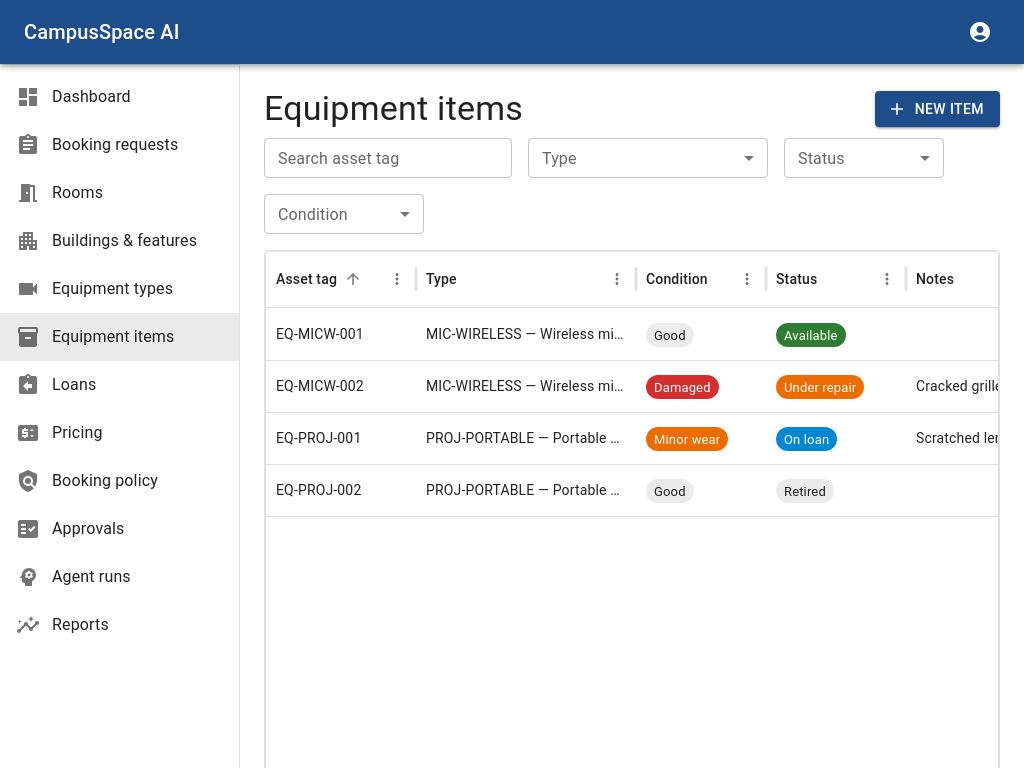
Test: EquipmentItemFormDialog › shows a duplicate asset tag under the tag field
This screenshot has width=1024, height=768.
Click the button "New item" at (937, 109), box [875,91,1000,127]
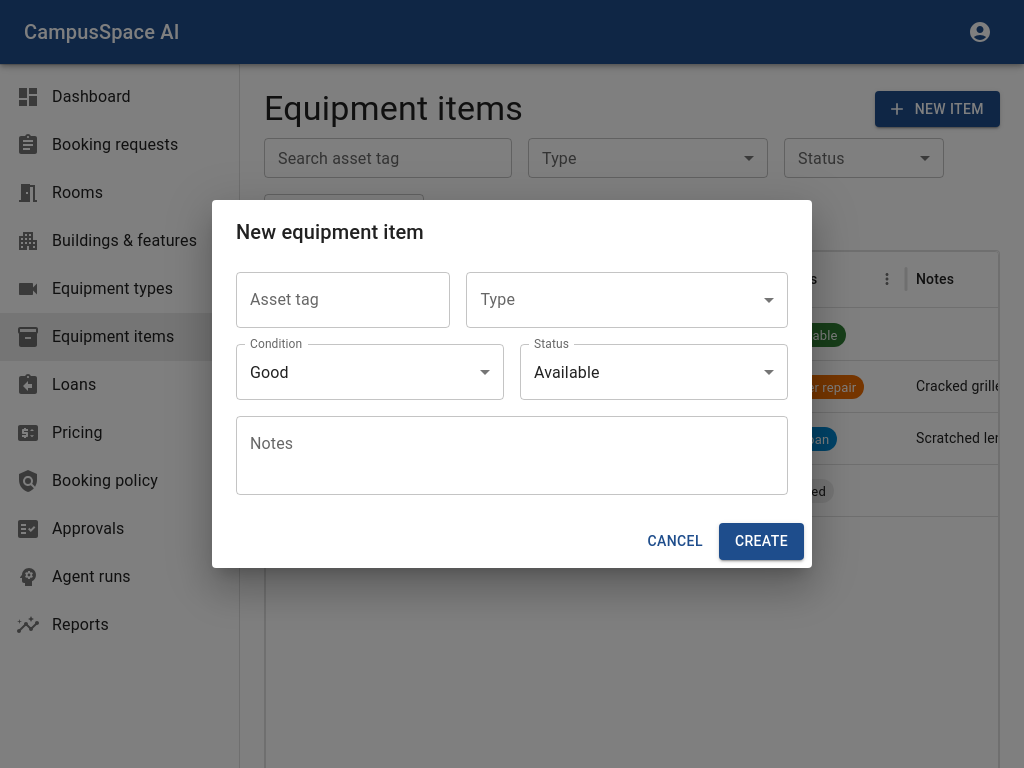
Type "EQ-MICW-001" into the field labelled "Asset tag" at (343, 300), box [236,272,450,328]
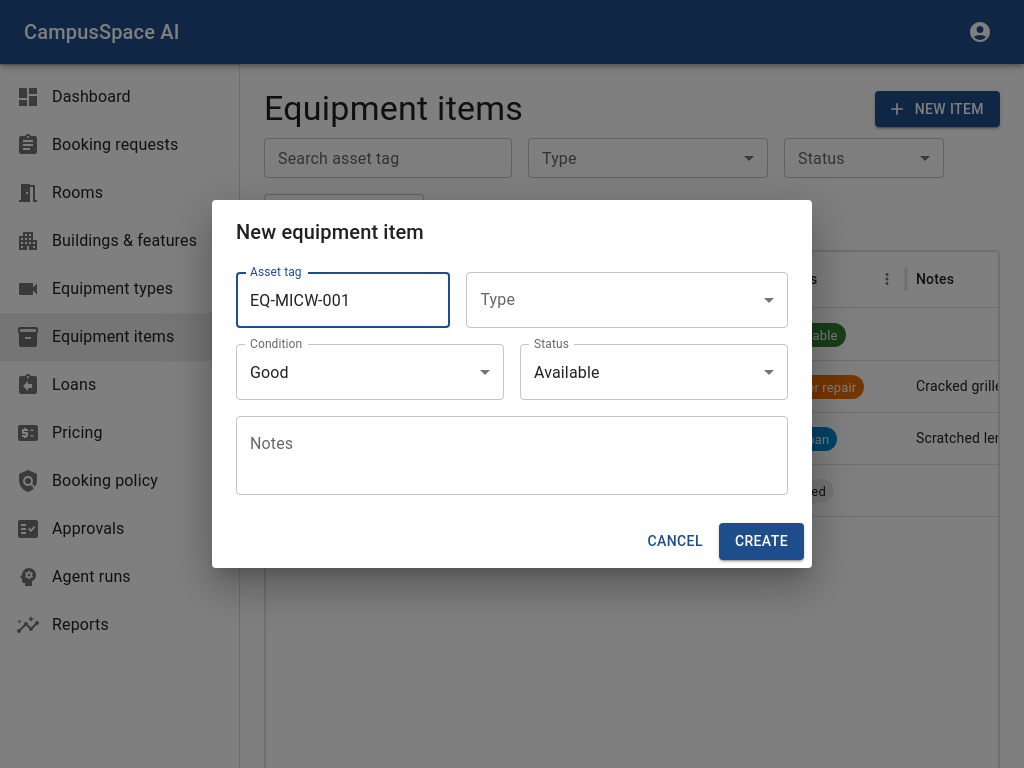
Click the dropdown named "Type" at (627, 300), box [466,272,788,328]
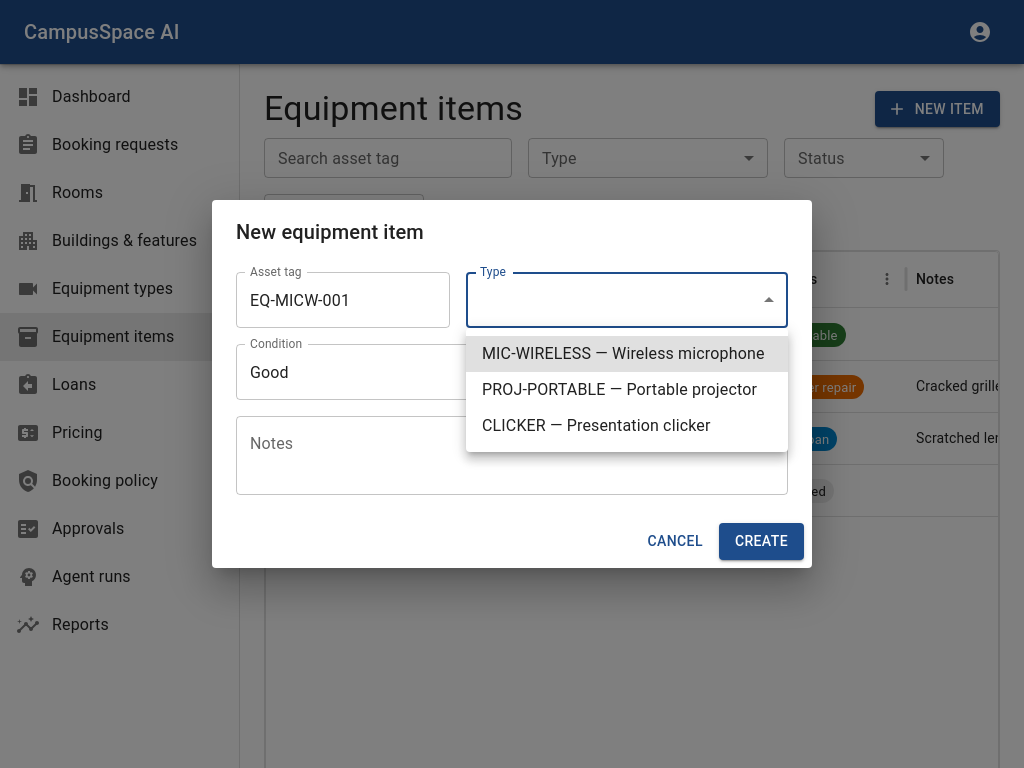
Click the option "MIC-WIRELESS — Wireless microphone" at (627, 354), box [466,336,788,372]
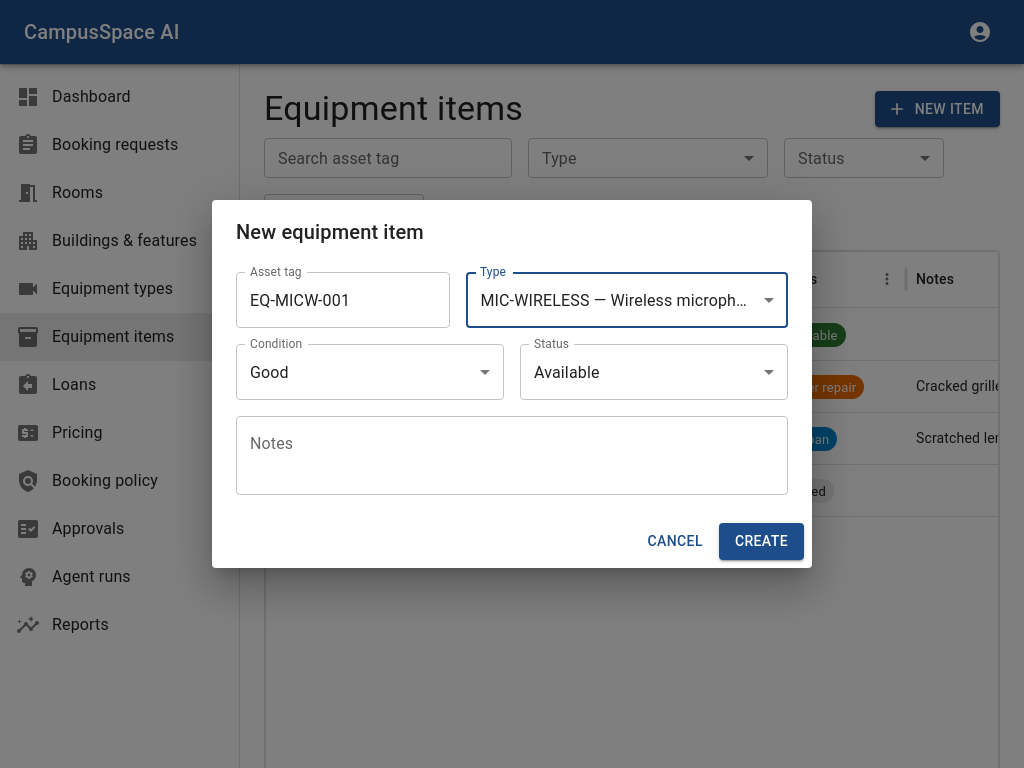
Click the button "Create" at (761, 542), box [719,523,804,560]
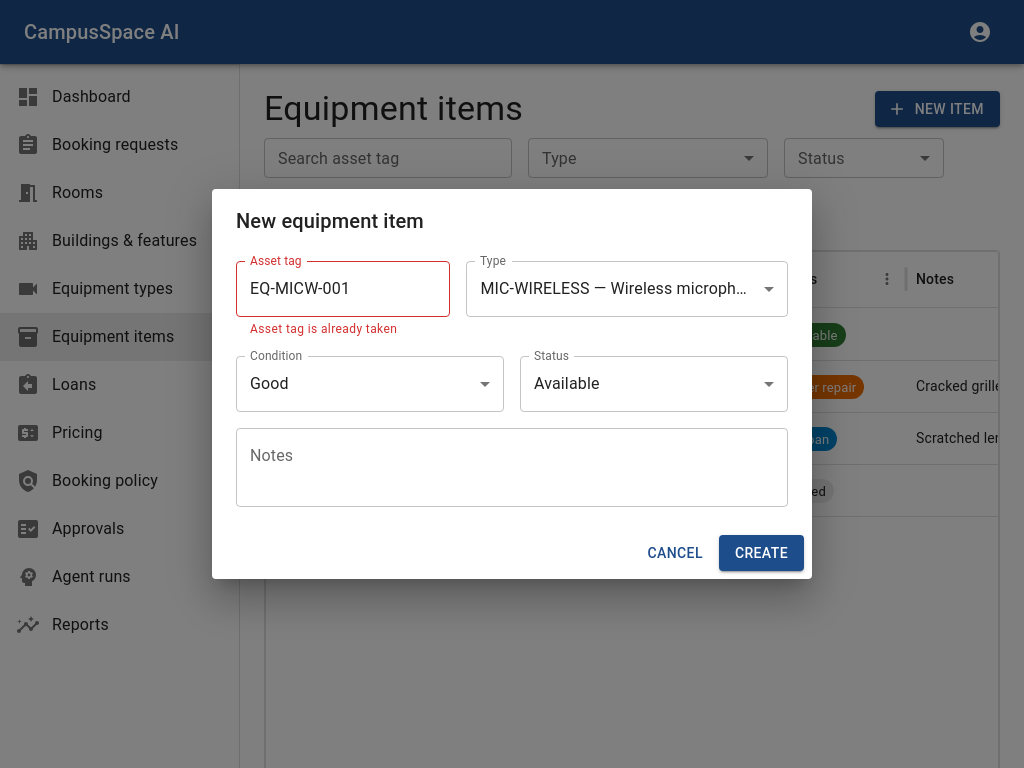
Result: the text "Asset tag is already taken" is shown at [250,322,397,336]
